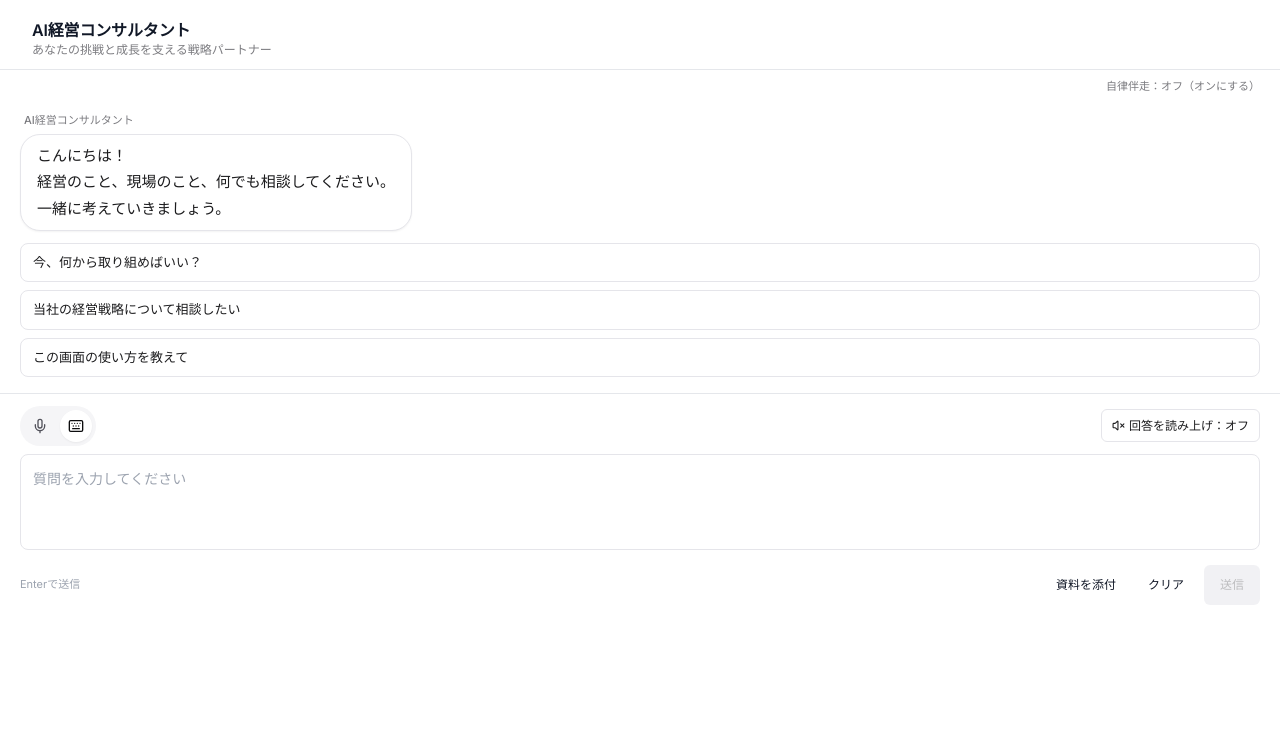
Test case: 自律伴走：経営点検（STAGE5・6）は会社ごとに1日1回 › 作成中の所見は、利用者が「最新の点検を確認」を押した時だけ取り直し、完成後の所見に置き換える（点検日時を示す）
Expected: the text box is enabled, 20,454 -> 1260,550
Click the button "自律伴走：オフ（オンにする）".
click(1183, 87)  # box 1106,78 -> 1260,96
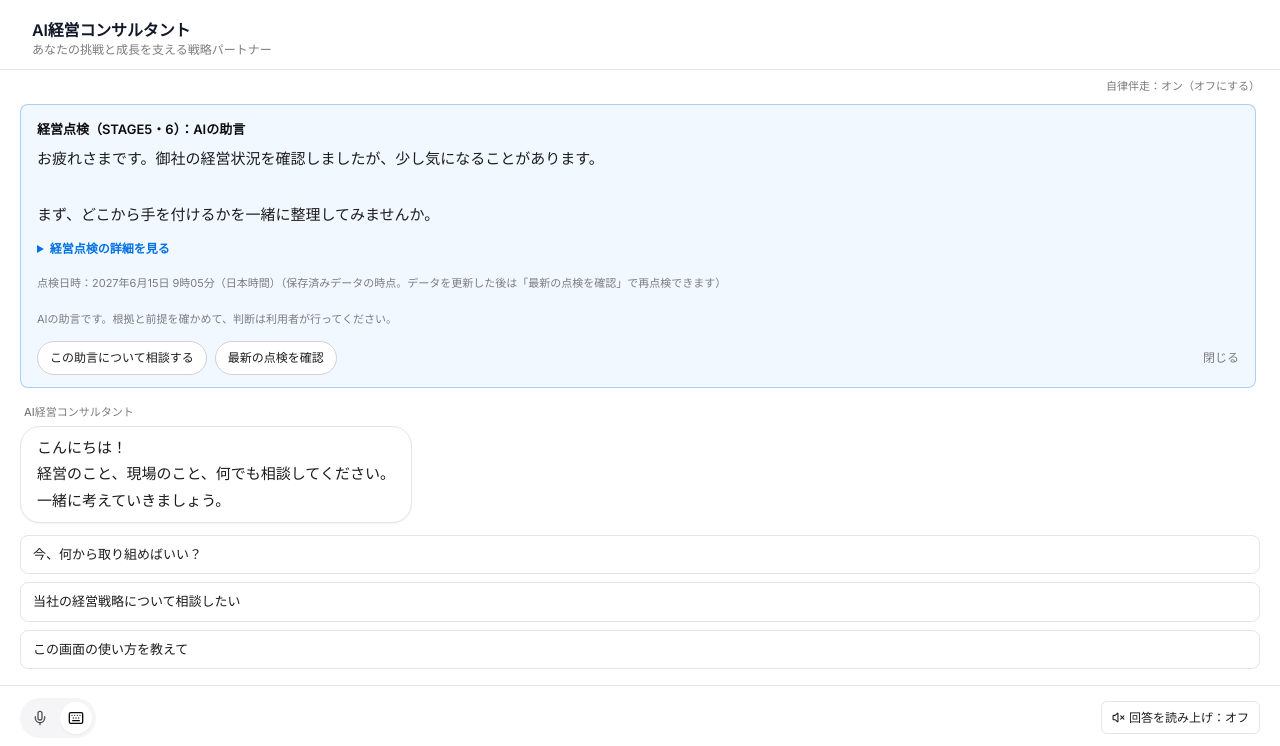
Expected: the element named "AI経営コンサルタントの助言" shows "点検日時：2027年6月15日 9時05分（日本時間）", 37,276 -> 726,290
Expected: the button "最新の点検を確認" is shown
Click the button "最新の点検を確認".
click(276, 358)  # box 215,341 -> 337,375
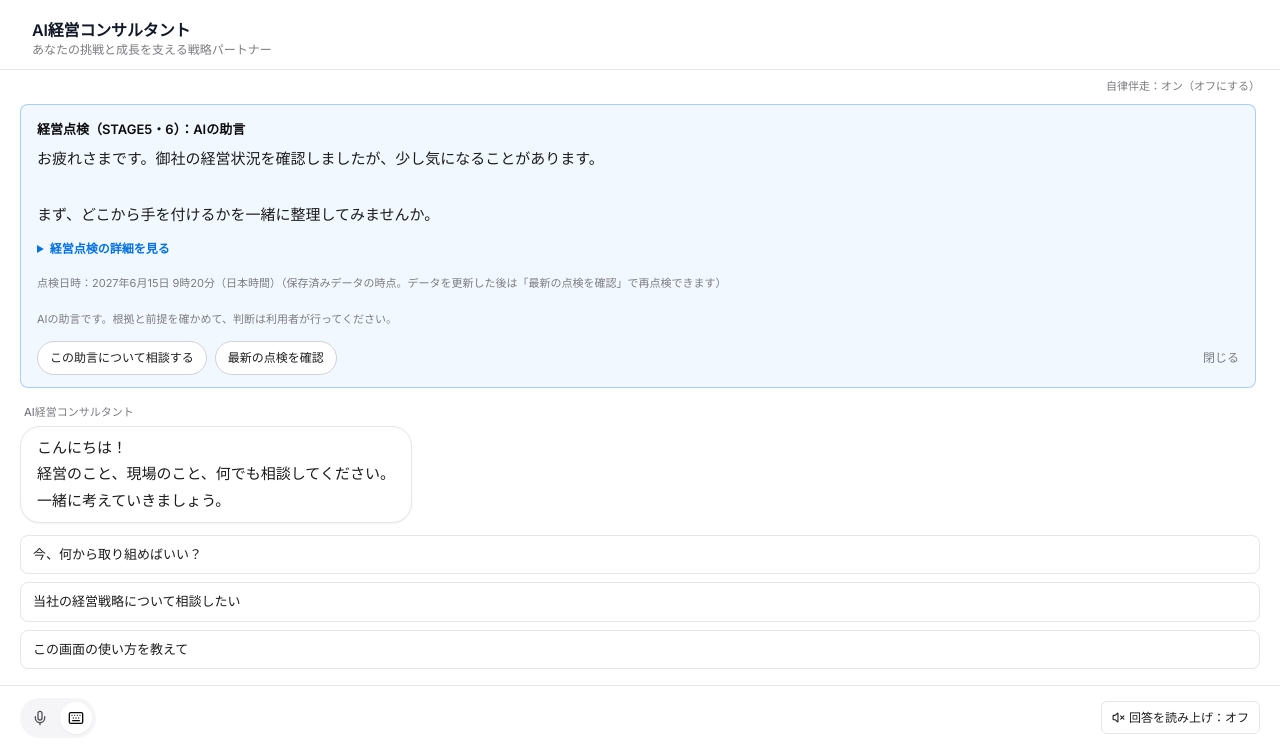
Expected: the element named "AI経営コンサルタントの助言" shows "点検日時：2027年6月15日 9時20分（日本時間）", 37,276 -> 726,290
